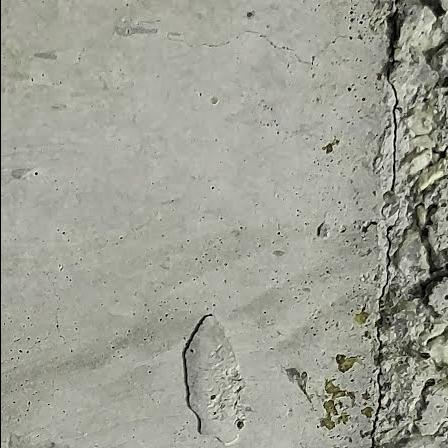crack: (356, 206, 401, 447), (164, 24, 349, 68), (383, 66, 401, 192)
spalling: (392, 130, 448, 322), (364, 0, 448, 89)
